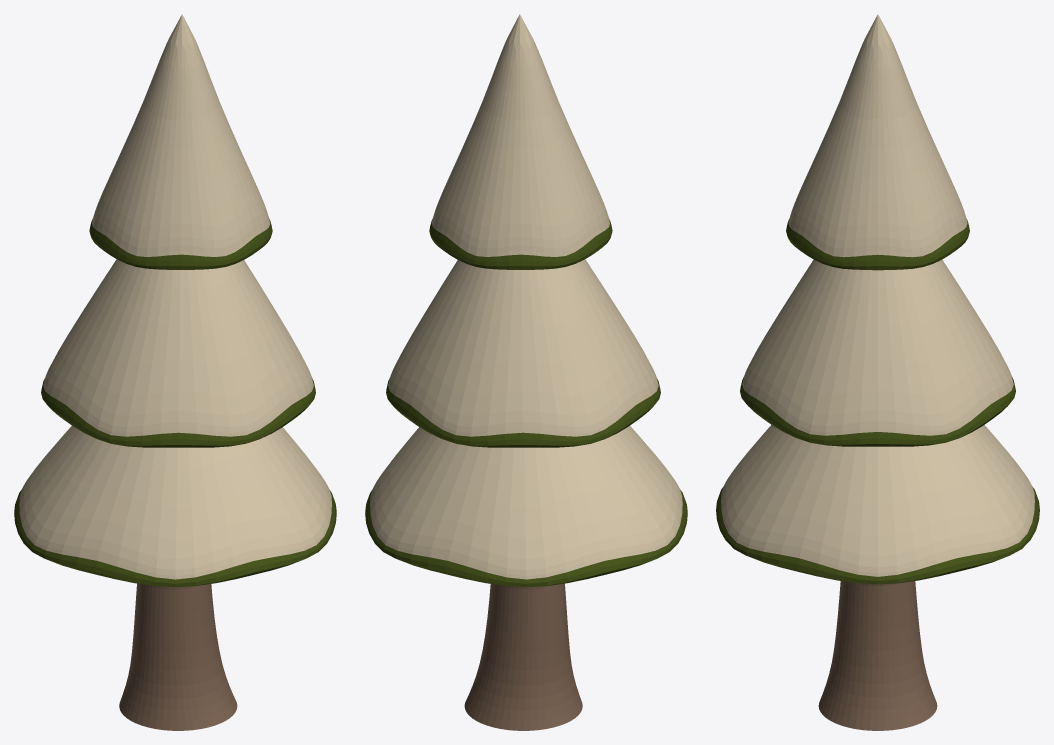
The model's file is SnowTree.fbx.
3 views of the same model, side by side, from view 1: azimuth 30°, elevation 25°; view 2: azimuth 150°, elevation 25°; view 3: azimuth 270°, elevation 25° (orthographic).
Visible parts, largest first — view 1: Circle.001; view 2: Circle.001; view 3: Circle.001.
Part boxes in pixels (left/top/right/bottom): Circle.001: left=14, top=14, right=336, bottom=730; Circle.001: left=365, top=14, right=687, bottom=730; Circle.001: left=716, top=14, right=1039, bottom=730.
Size of the model in its own units: 3916 by 9033 by 3823.
